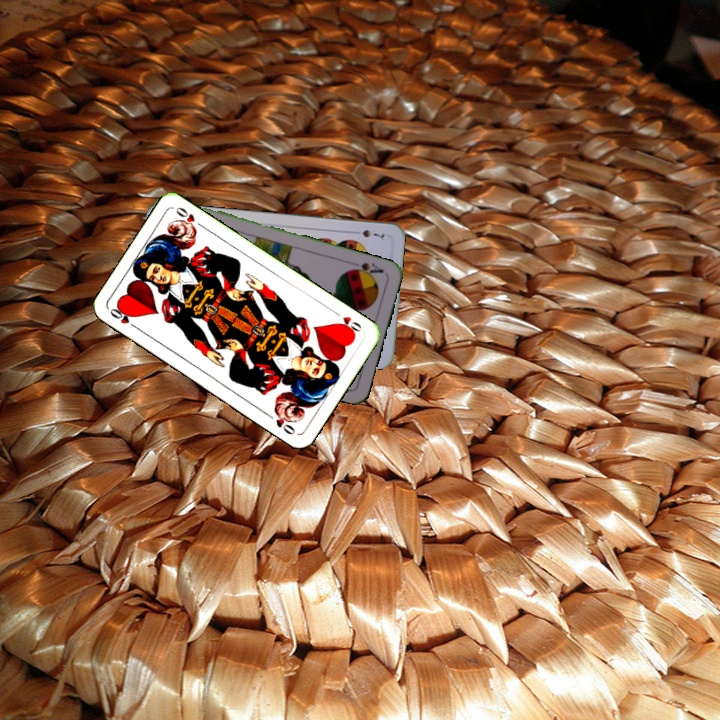HO: (106, 303, 142, 332), (330, 307, 364, 337)
S7: (349, 226, 387, 241)
SA: (346, 258, 386, 279)
